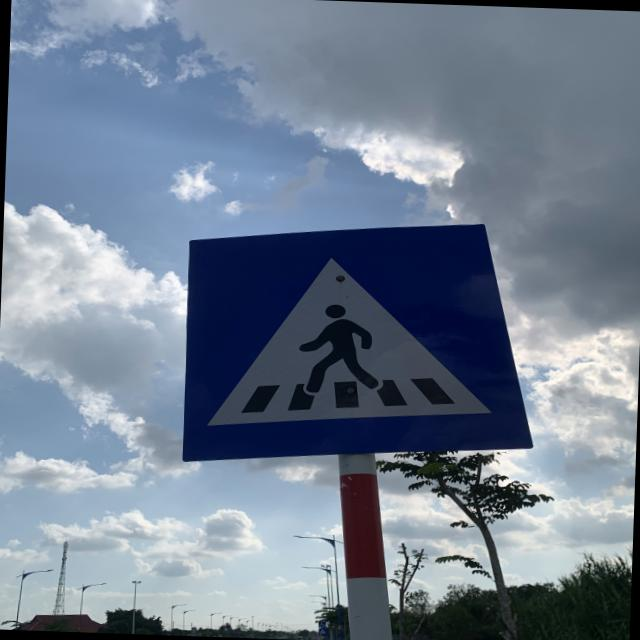Giao_Nhau_Duong_Uu_Tien: (182, 212, 541, 470)
